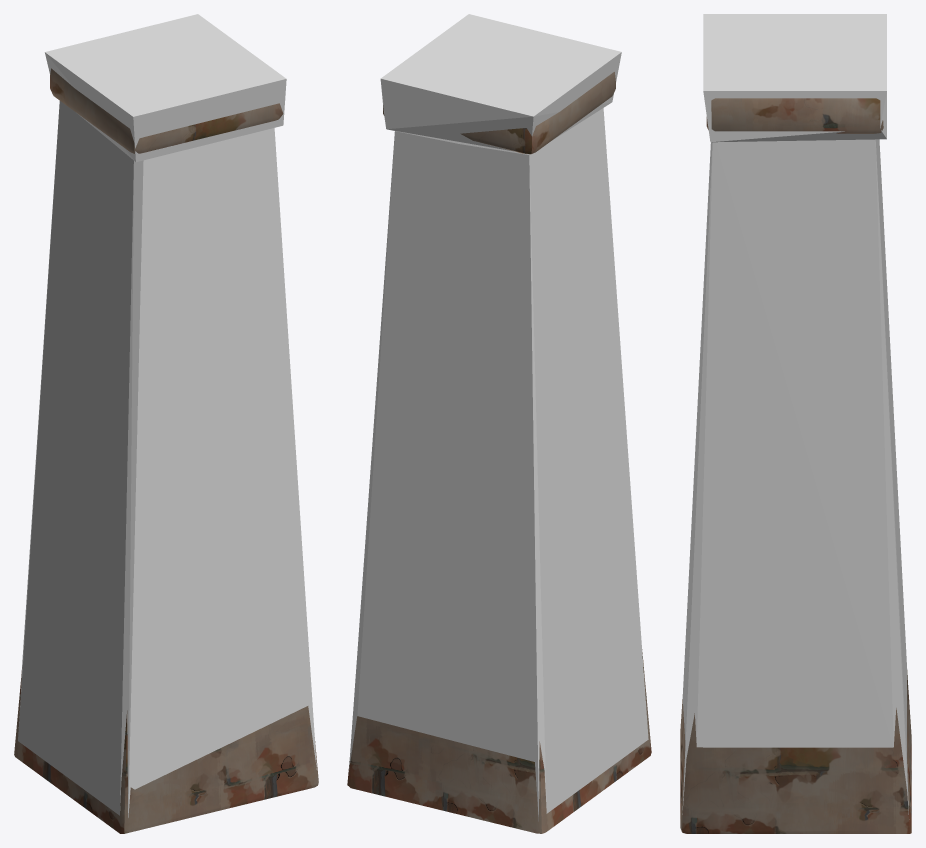
The model's file is SM_Chimney.fbx.
3 renders of one model, left to right at view 1: azimuth 30°, elevation 25°; view 2: azimuth 150°, elevation 25°; view 3: azimuth 270°, elevation 25°, orthographic. The views are drawn at different scales.
Parts seen in each view (by area): view 1: SM_Chimney_ConvexHulls, SM_Chimney_LOD0; view 2: SM_Chimney_ConvexHulls, SM_Chimney_LOD0; view 3: SM_Chimney_ConvexHulls, SM_Chimney_LOD0.
Boxes of the visible parts, x1,y1,x2,y2 form: SM_Chimney_ConvexHulls: [18, 14, 316, 817]; SM_Chimney_LOD0: [14, 68, 318, 833]; SM_Chimney_ConvexHulls: [348, 14, 648, 821]; SM_Chimney_LOD0: [347, 72, 651, 833]; SM_Chimney_ConvexHulls: [682, 14, 909, 819]; SM_Chimney_LOD0: [680, 98, 911, 833].
Size of the model in its own units: 192 by 188 by 656.
1 material, 1 textured.
